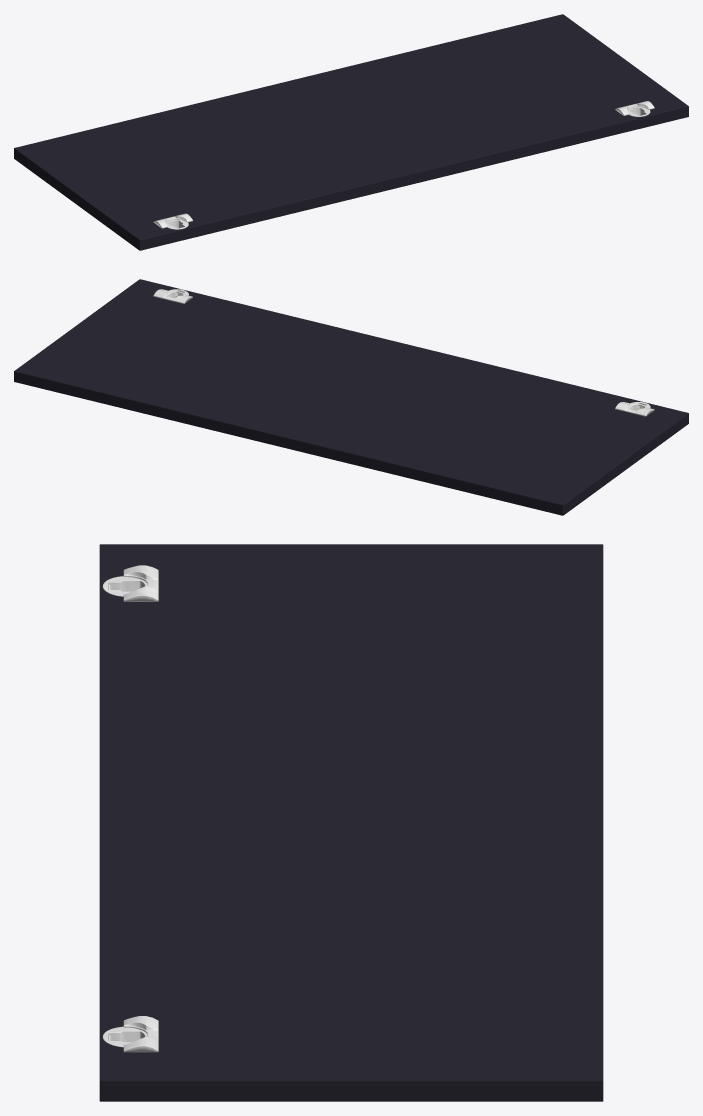
The model's file is SM_Kitchen_04_Door_01.obj.
3 renders of one model, top to bottom at view 1: azimuth 30°, elevation 25°; view 2: azimuth 150°, elevation 25°; view 3: azimuth 270°, elevation 25°, orthographic. The views are drawn at different scales.
Parts seen in each view (by area): view 1: SM_Kitchen_04_Door_01; view 2: SM_Kitchen_04_Door_01; view 3: SM_Kitchen_04_Door_01.
Boxes of the visible parts, bbox=[...] form: SM_Kitchen_04_Door_01: bbox=[14, 14, 688, 250]; SM_Kitchen_04_Door_01: bbox=[14, 279, 688, 515]; SM_Kitchen_04_Door_01: bbox=[99, 544, 603, 1101].
Bounding box in the file's own units: 0.9969 × 0.0248 × 0.396.
Materials: 2 (2 with a texture image).
